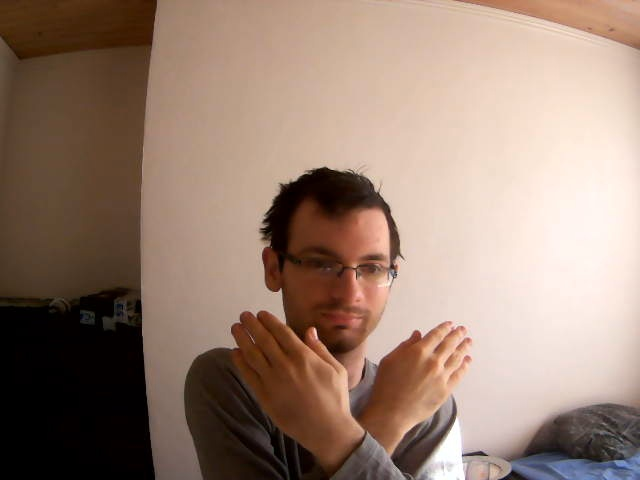butterfly: (226, 309, 476, 447)
